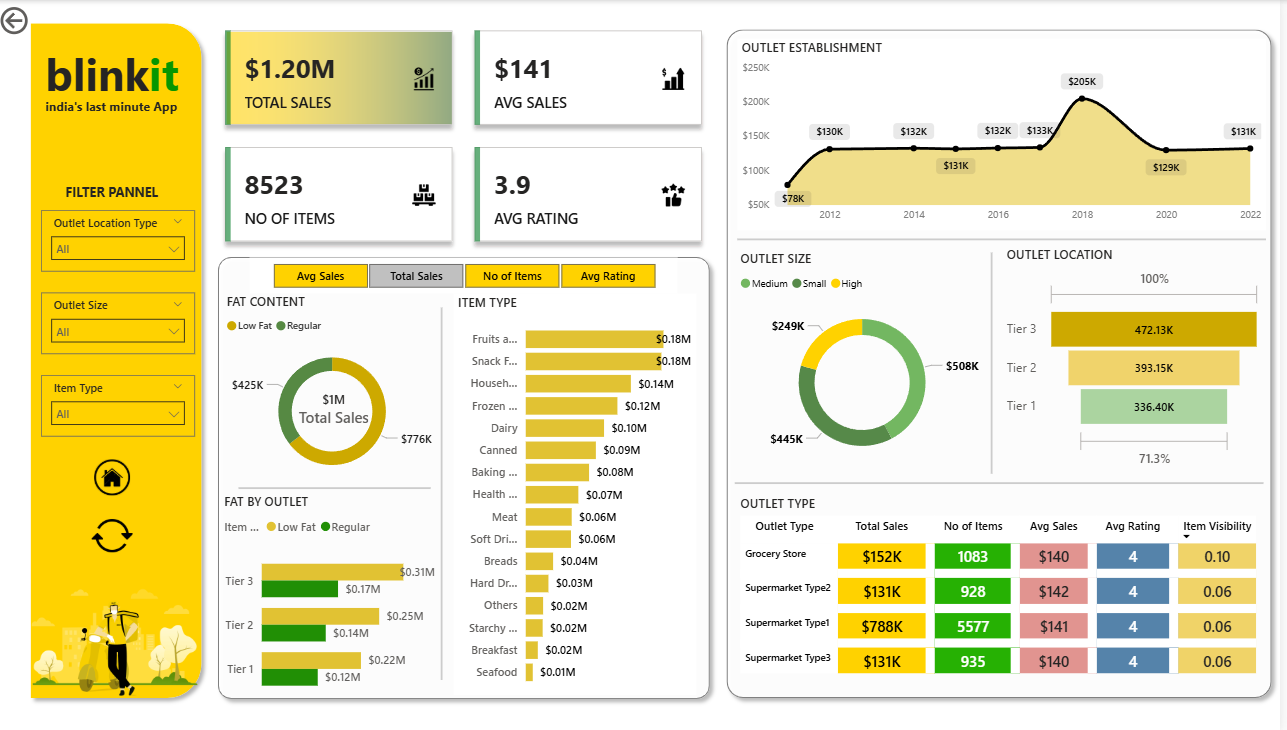

What the dashboard file says about the page in this screenshot:
{"tool":"powerbi","page":{"name":"Page 1","canvas":[1400,800],"ordinal":0},"visuals":[{"type":"shape","box":[28.6,16.4,204.5,753.9],"z":0},{"type":"textbox","box":[49.1,42.3,173.1,84.5],"z":1000},{"type":"textbox","box":[49.1,102.3,173.1,35.4],"z":2000},{"type":"cardVisual","fields":{"Data":["BlinkIT Grocery Data.Total Sales","BlinkIT Grocery Data.Avg Sales","BlinkIT Grocery Data.No of Items","BlinkIT Grocery Data.Avg Rating"]},"box":[233.1,16.4,554.9,264.5],"z":3000},{"type":"shape","box":[232.9,271.4,554.3,500],"z":4000},{"type":"slicer","fields":{"Values":["Metrics.Metrics"]},"box":[276.8,280.8,466.3,39.5],"z":5000},{"type":"cardVisual","fields":{"Data":["BlinkIT Grocery Data.Total Sales"]},"box":[310.8,409,115.9,75],"z":6000},{"type":"clusteredBarChart","title":"FAT BY OUTLET","fields":{"Y":["BlinkIT Grocery Data.Total Sales"],"Category":["BlinkIT Grocery Data.Outlet Location Type"],"Series":["BlinkIT Grocery Data.Item Fat Content"]},"box":[244,537.2,239.9,237.2],"z":7000},{"type":"shape","box":[264.5,526.2,210,12.3],"z":8000},{"type":"shape","box":[484,335.4,4.1,406.3],"z":9000},{"type":"barChart","title":"ITEM TYPE ","fields":{"Y":["BlinkIT Grocery Data.Total Sales"],"Category":["BlinkIT Grocery Data.Item Type"]},"box":[499,320.4,264.5,437.6],"z":10000},{"type":"shape","box":[788,23.2,612.1,747.1],"z":11000},{"type":"lineChart","title":"OUTLET ESTABLISHMENT","fields":{"Category":["BlinkIT Grocery Data.Outlet Establishment Year"],"Y":["BlinkIT Grocery Data.Total Sales"]},"box":[808.5,42.3,576.7,208.6],"z":12000},{"type":"shape","box":[808.5,250.9,576.7,20.5],"z":13000},{"type":"donutChart","title":"OUTLET SIZE","fields":{"Y":["BlinkIT Grocery Data.Total Sales"],"Category":["BlinkIT Grocery Data.Outlet Size"]},"box":[807.1,272.7,275.4,244],"z":14000},{"type":"funnel","title":"OUTLET LOCATION","fields":{"Category":["BlinkIT Grocery Data.Outlet Location Type"],"Y":["Sum(BlinkIT Grocery Data.Sales)"]},"box":[1097.5,268.6,287.7,248.1],"z":15000},{"type":"shape","box":[805.7,516.7,576.7,20.5],"z":16000},{"type":"shape","box":[1077,275.4,17.7,241.3],"z":17000},{"type":"pivotTable","title":"OUTLET TYPE","fields":{"Rows":["BlinkIT Grocery Data.Outlet Type"],"Values":["BlinkIT Grocery Data.Total Sales","BlinkIT Grocery Data.No of Items","BlinkIT Grocery Data.Avg Sales","BlinkIT Grocery Data.Avg Rating","Avg(BlinkIT Grocery Data.Item Visibility)"]},"box":[807.1,539.9,579.4,234.5],"z":18000},{"type":"actionButton","box":[0,2.7,99.5,39.5],"z":19000},{"type":"slicer","fields":{"Values":["BlinkIT Grocery Data.Outlet Location Type"]},"box":[49.1,229,167.7,66.8],"z":20000},{"type":"slicer","fields":{"Values":["BlinkIT Grocery Data.Outlet Size"]},"box":[49.1,319,167.7,66.8],"z":21000},{"type":"slicer","fields":{"Values":["BlinkIT Grocery Data.Item Type"]},"box":[49.1,409,167.7,66.8],"z":22000},{"type":"donutChart","title":"FAT CONTENT","fields":{"Y":["BlinkIT Grocery Data.Total Sales"],"Category":["BlinkIT Grocery Data.Item Fat Content"]},"box":[246.8,319,239.9,214],"z":23000},{"type":"textbox","box":[70.9,195,130.9,34.1],"z":24000},{"type":"image","box":[34.1,602.6,193.6,197.7],"z":25000},{"type":"image","box":[99.5,556.2,54.5,55.9],"z":26000},{"type":"image","box":[88.6,496.3,76.3,49.1],"z":27000}]}

Visuals, with their boxes on the page's 1400x800 design canvas (x1, y1, x2, y2). These are canvas units, not pixel positions in the 1287x730 screenshot, which may show the page scaled, cropped or inside an application window:
shape: box(29, 16, 233, 770)
textbox: box(49, 42, 222, 127)
textbox: box(49, 102, 222, 138)
cardVisual - BlinkIT Grocery Data.Total Sales x BlinkIT Grocery Data.Avg Sales: box(233, 16, 788, 281)
shape: box(233, 271, 787, 771)
slicer - Metrics.Metrics: box(277, 281, 743, 320)
cardVisual - BlinkIT Grocery Data.Total Sales: box(311, 409, 427, 484)
"FAT BY OUTLET" clusteredBarChart: box(244, 537, 484, 774)
shape: box(264, 526, 474, 538)
shape: box(484, 335, 488, 742)
"ITEM TYPE " barChart: box(499, 320, 764, 758)
shape: box(788, 23, 1400, 770)
"OUTLET ESTABLISHMENT" lineChart: box(808, 42, 1385, 251)
shape: box(808, 251, 1385, 271)
"OUTLET SIZE" donutChart: box(807, 273, 1082, 517)
"OUTLET LOCATION" funnel: box(1098, 269, 1385, 517)
shape: box(806, 517, 1382, 537)
shape: box(1077, 275, 1095, 517)
"OUTLET TYPE" pivotTable: box(807, 540, 1386, 774)
actionButton: box(0, 3, 100, 42)
slicer - BlinkIT Grocery Data.Outlet Location Type: box(49, 229, 217, 296)
slicer - BlinkIT Grocery Data.Outlet Size: box(49, 319, 217, 386)
slicer - BlinkIT Grocery Data.Item Type: box(49, 409, 217, 476)
"FAT CONTENT" donutChart: box(247, 319, 487, 533)
textbox: box(71, 195, 202, 229)
image: box(34, 603, 228, 800)
image: box(100, 556, 154, 612)
image: box(89, 496, 165, 545)
